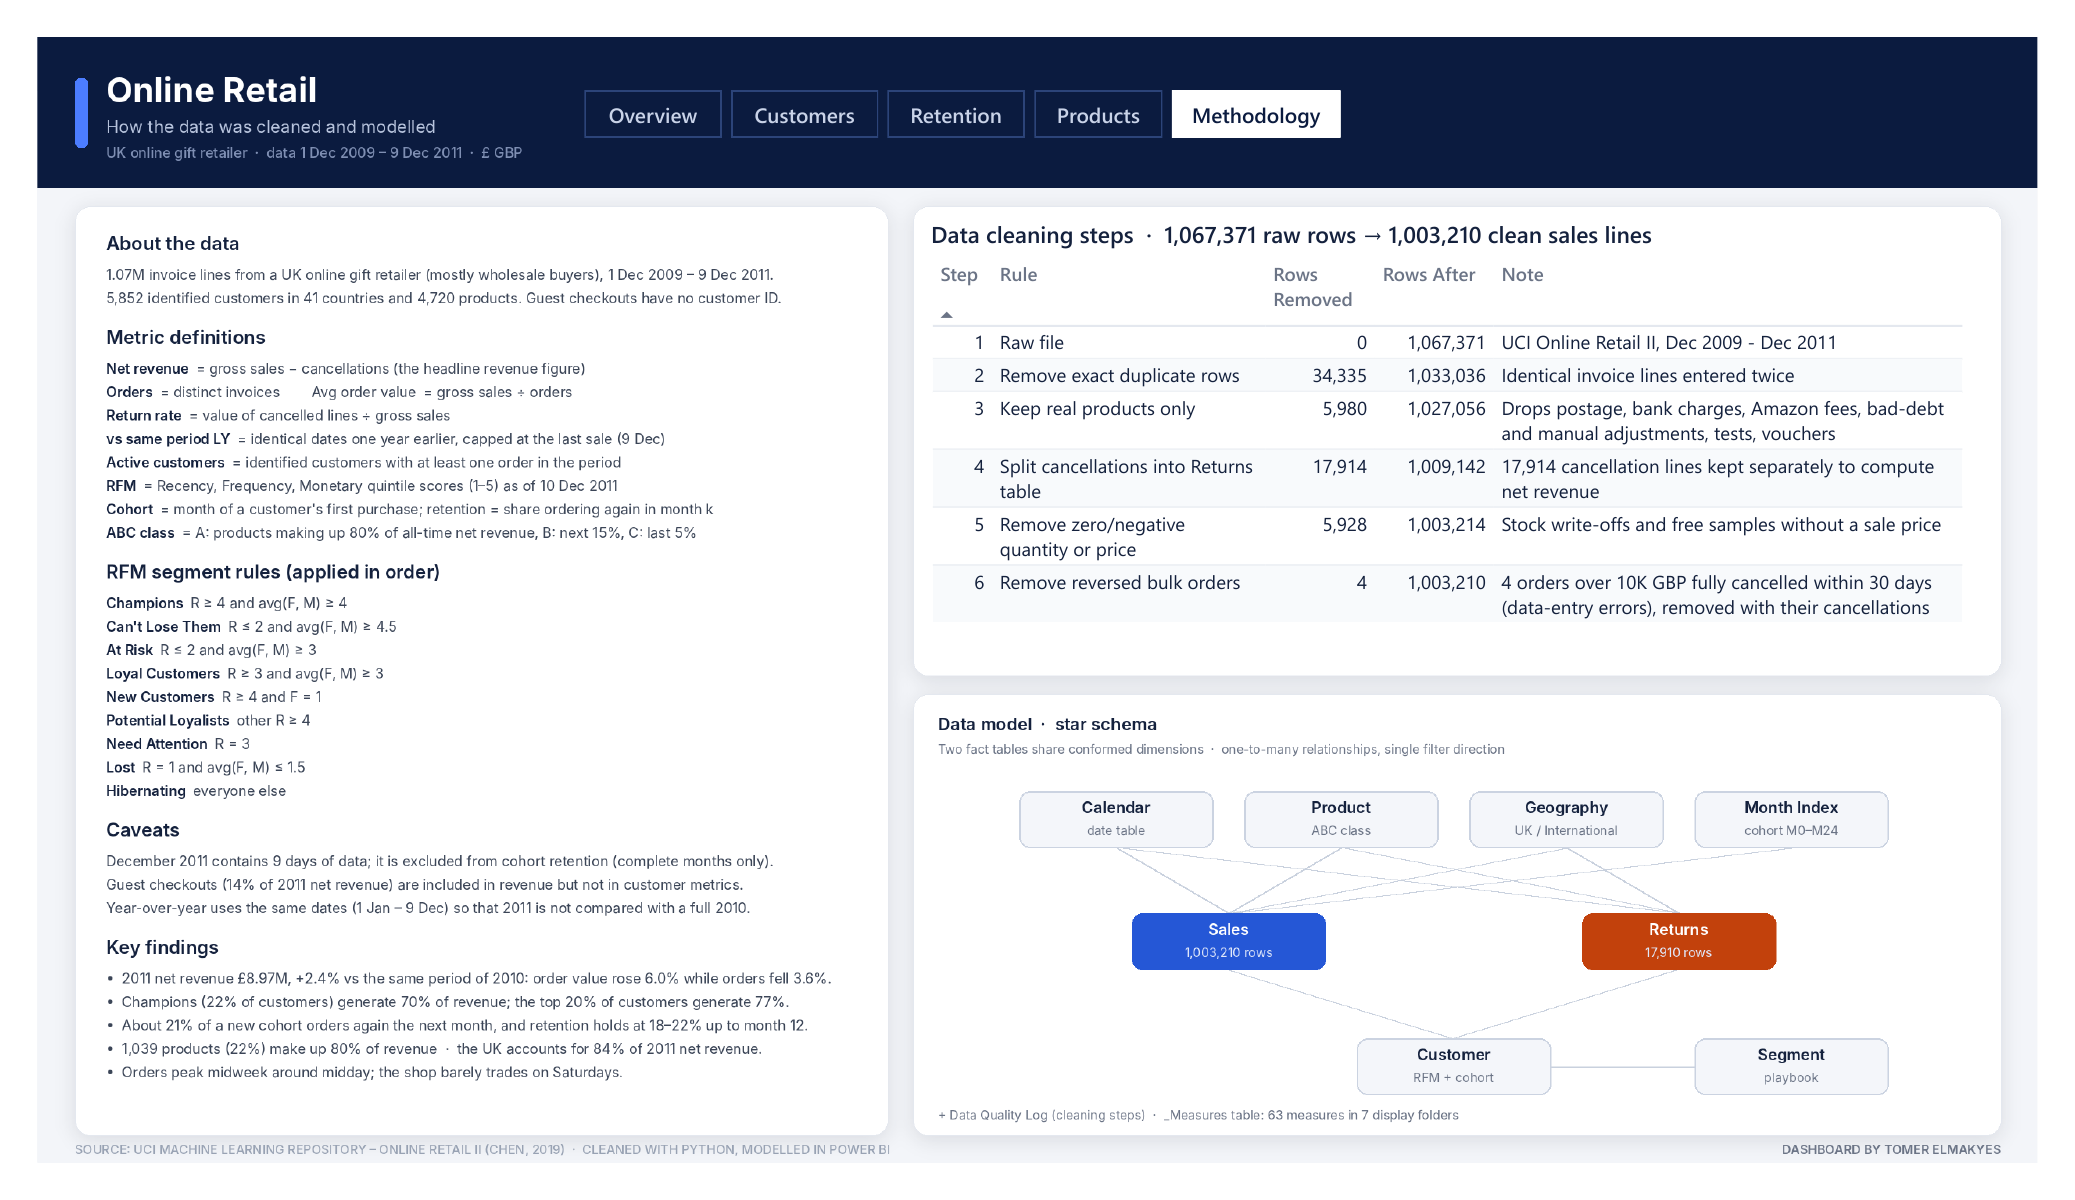

The page's visual inventory and layout, read from the dashboard file:
{"tool":"powerbi","page":{"name":"Methodology","canvas":[1280,720],"ordinal":4},"visuals":[{"type":"actionButton","box":[350,34,88,30],"z":6500},{"type":"actionButton","box":[444,34,94,30],"z":6600},{"type":"actionButton","box":[544,34,88,30],"z":6700},{"type":"actionButton","box":[638,34,82,30],"z":6800},{"type":"actionButton","box":[726,34,108,30],"z":6900},{"type":"tableEx","title":"Data cleaning steps  ·  1,067,371 raw rows → 1,003,210 clean sales lines","fields":{"Values":["Data Quality Log.Step","Data Quality Log.Rule","Data Quality Log.Rows Removed","Data Quality Log.Rows After","Data Quality Log.Note"]},"box":[560,108,696,300],"z":7000}]}

Visuals, with their boxes on the page's 1280x720 design canvas (x1, y1, x2, y2). These are canvas units, not pixel positions in the 2075x1200 screenshot, which may show the page scaled, cropped or inside an application window:
actionButton: <box>350,34,438,64</box>
actionButton: <box>444,34,538,64</box>
actionButton: <box>544,34,632,64</box>
actionButton: <box>638,34,720,64</box>
actionButton: <box>726,34,834,64</box>
"Data cleaning steps  ·  1,067,371 raw rows → 1,003,210 clean sales lines" tableEx: <box>560,108,1256,408</box>
